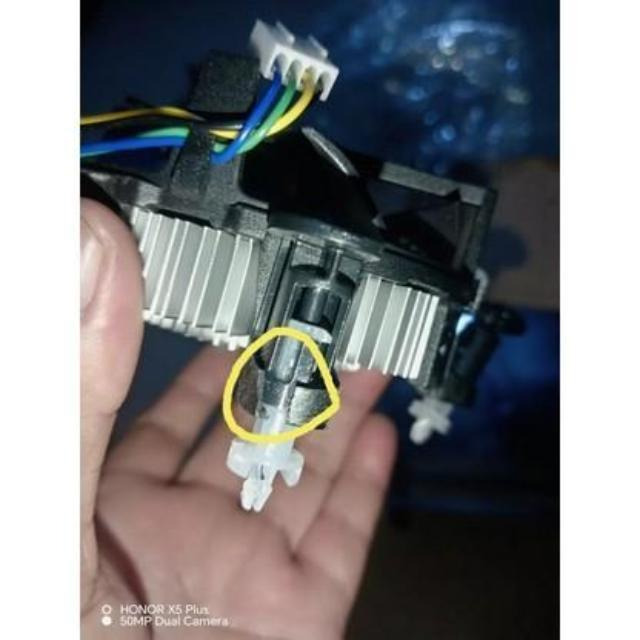CPU_Fan: (80, 57, 514, 466)
